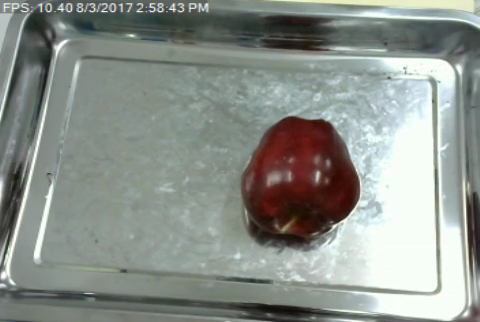Apple: (237, 110, 361, 246)
